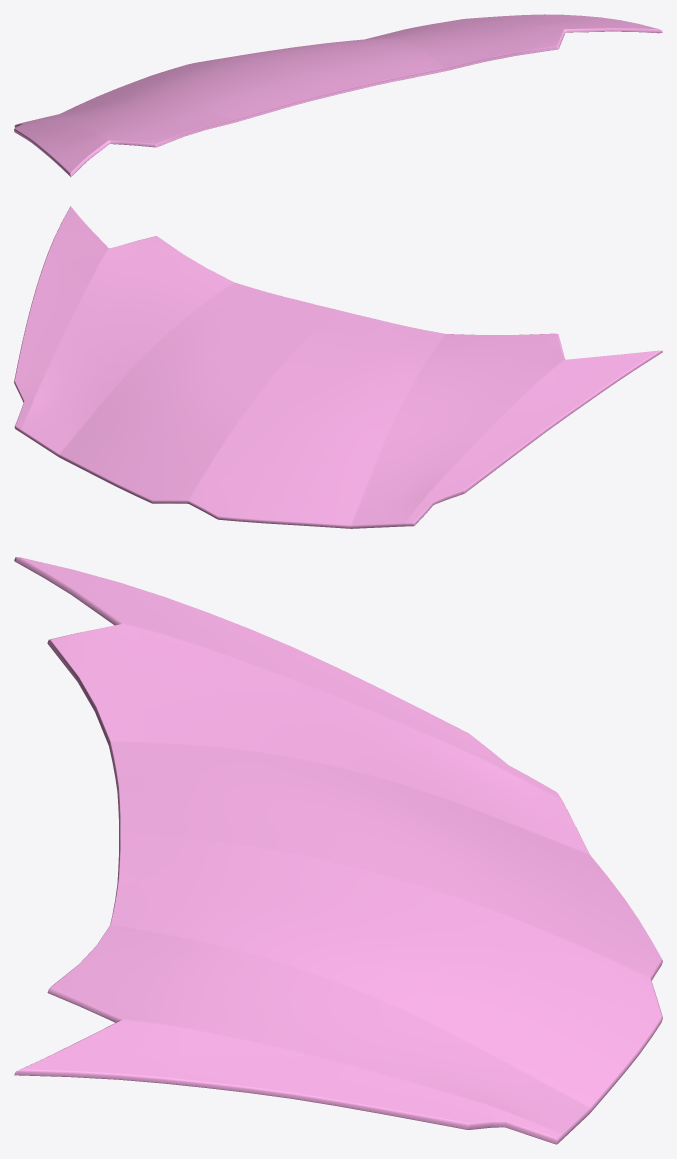
The picture shows the model from 3 angles, top to bottom: view 1: azimuth 30°, elevation 25°; view 2: azimuth 150°, elevation 25°; view 3: azimuth 270°, elevation 25°; orthographic projection. The views are drawn at different scales.
Visible parts, largest first — view 1: Trunk_4; view 2: Trunk_4; view 3: Trunk_4.
Part boxes in pixels (bbox=[...]): Trunk_4: bbox=[14, 14, 662, 176]; Trunk_4: bbox=[14, 206, 662, 528]; Trunk_4: bbox=[14, 557, 662, 1144].
Bounding box in the file's own units: 1.57 × 0.2568 × 0.8385.
